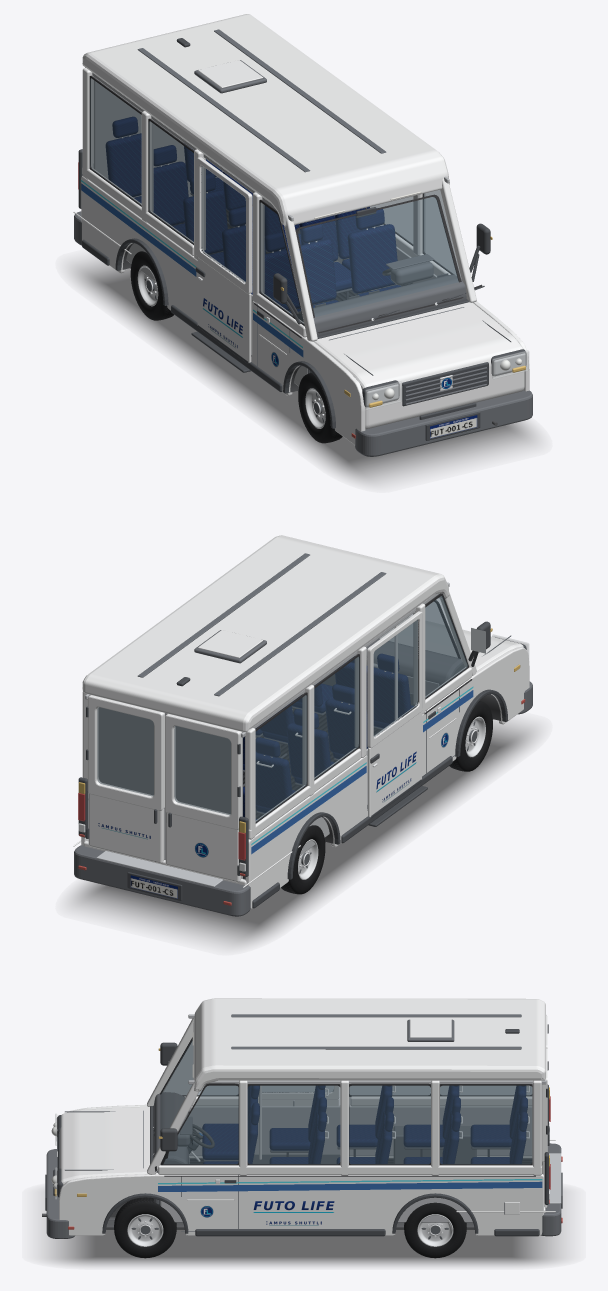
Rendered from futo-life-campus-shuttle.glb.
The picture shows the model from 3 angles, top to bottom: view 1: azimuth 30°, elevation 25°; view 2: azimuth 150°, elevation 25°; view 3: azimuth 270°, elevation 25°; orthographic projection. The views are drawn at different scales.
Visible parts, largest first — view 1: Roof, Shadow_Blob, Bonnet_Nose, Glass_Windscreen, Panel_Side_R, Glass_Side3_R, Bumper_Front, Dashboard, Glass_Side2_R, Glass_SlidingDoor, Door_Slide_LowerSkin, Bench_FrontPassenger_Backrest (+34 smaller); view 2: Roof, Shadow_Blob, Panel_Side_R, Lining_Rear, Glass_Side3_R, Glass_RearDoor_L, Glass_RearDoor_R, Glass_Side2_R, RearDoor_L_LowerSkin, Bumper_Rear, Glass_SlidingDoor, RearDoor_R_LowerSkin (+31 smaller); view 3: Roof, Panel_Side_L, Shadow_Blob, Glass_Side1_L, Glass_Side3_L, Glass_Side2_L, Lining_Lower_R, Bonnet_Nose, Glass_Front_L, Belt_Rail_L, Stripe_Blue_L_1.5, Tyre_FL (+53 smaller).
Part boxes in pixels (x1,y1,x2,y2): Roof: (82, 14, 449, 226); Shadow_Blob: (72, 259, 535, 482); Bonnet_Nose: (313, 302, 524, 429); Glass_Windscreen: (298, 197, 458, 316); Panel_Side_R: (81, 176, 365, 444); Glass_Side3_R: (90, 78, 141, 205); Bumper_Front: (355, 390, 532, 456); Dashboard: (297, 274, 466, 372); Glass_Side2_R: (148, 121, 193, 243); Glass_SlidingDoor: (201, 166, 245, 282); Door_Slide_LowerSkin: (197, 257, 251, 362); Bench_FrontPassenger_Backrest: (264, 239, 336, 310); Roof: (82, 535, 449, 732); Shadow_Blob: (72, 720, 535, 944); Panel_Side_R: (245, 647, 529, 908); Lining_Rear: (98, 707, 242, 878); Glass_Side3_R: (255, 695, 307, 821); Glass_RearDoor_L: (97, 707, 153, 796); Glass_RearDoor_R: (174, 726, 230, 815); Glass_Side2_R: (314, 656, 359, 779); RearDoor_L_LowerSkin: (88, 793, 164, 863); Bumper_Rear: (74, 845, 250, 916); Glass_SlidingDoor: (373, 620, 417, 736); RearDoor_R_LowerSkin: (165, 812, 241, 882); Roof: (193, 998, 545, 1091); Panel_Side_L: (59, 1173, 543, 1235); Shadow_Blob: (46, 1229, 561, 1265); Glass_Side1_L: (247, 1085, 340, 1164); Glass_Side3_L: (440, 1085, 532, 1164); Glass_Side2_L: (349, 1085, 430, 1164); Lining_Lower_R: (189, 1106, 532, 1155); Bonnet_Nose: (59, 1106, 157, 1184); Glass_Front_L: (164, 1085, 238, 1164); Belt_Rail_L: (158, 1165, 542, 1174); Stripe_Blue_L_1.5: (158, 1181, 542, 1191); Tyre_FL: (114, 1197, 176, 1258).
Bounding box in the file's own units: 2.7 × 2.4 × 6.4.
49 materials, 10 textured.
